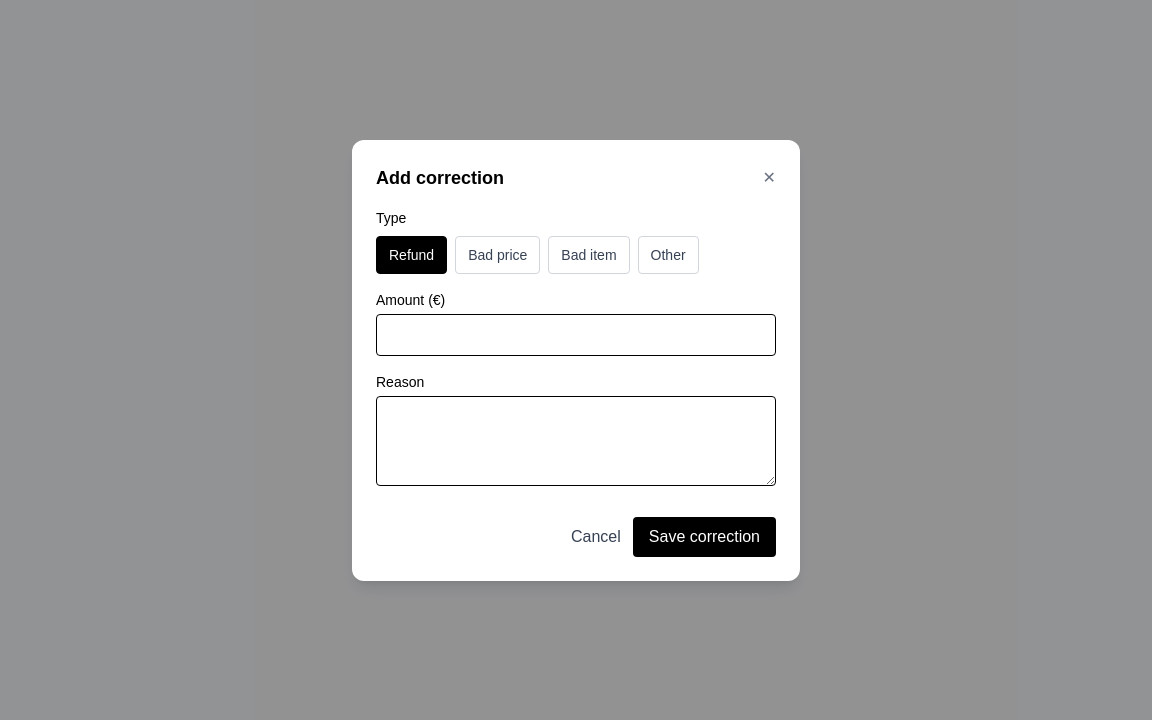
Test case: CorrectionModal › requires a reason before submitting
This screenshot has width=1152, height=720.
Type "5" into the number field at [576, 334], box left=376, top=314, right=776, bottom=356
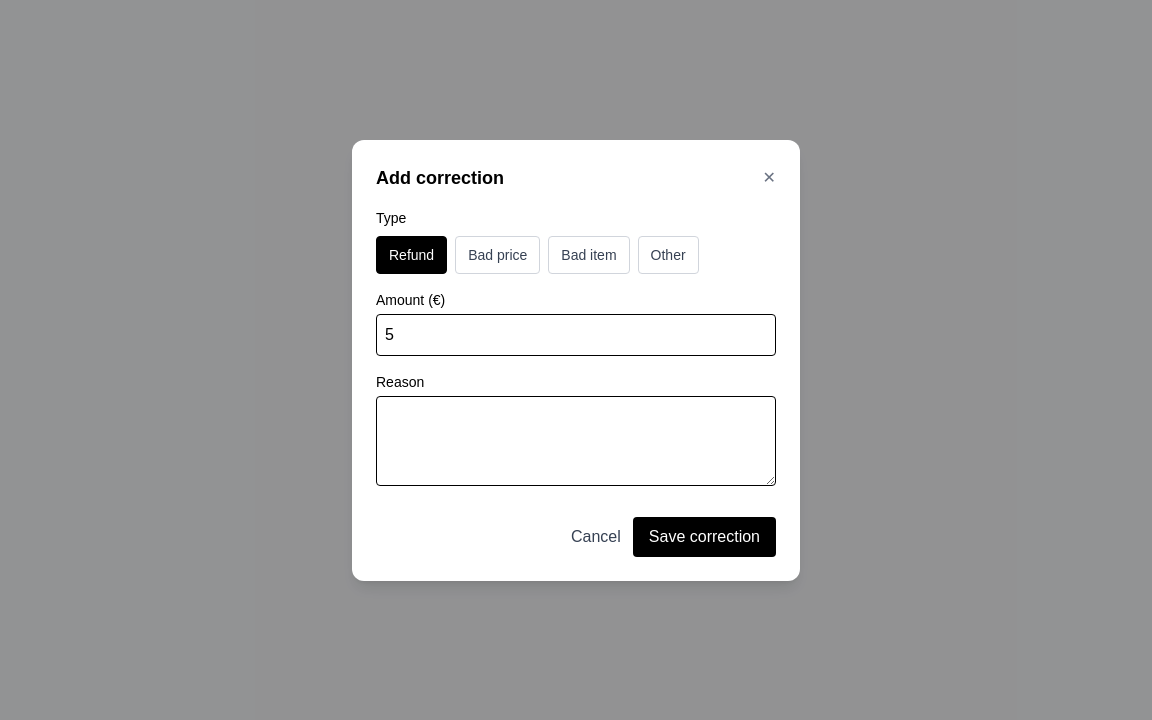
Click the button "Save correction" at [704, 536], box left=633, top=516, right=776, bottom=556
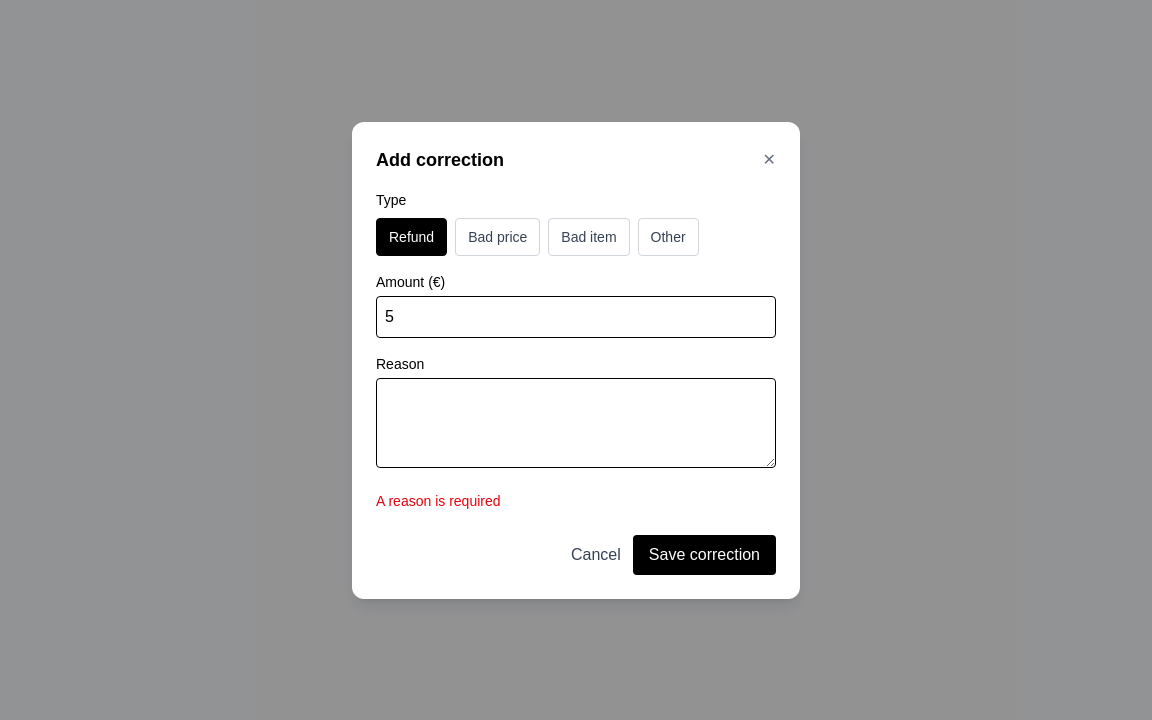
Expected: the text "A reason is required" is shown, left=376, top=492, right=500, bottom=508
